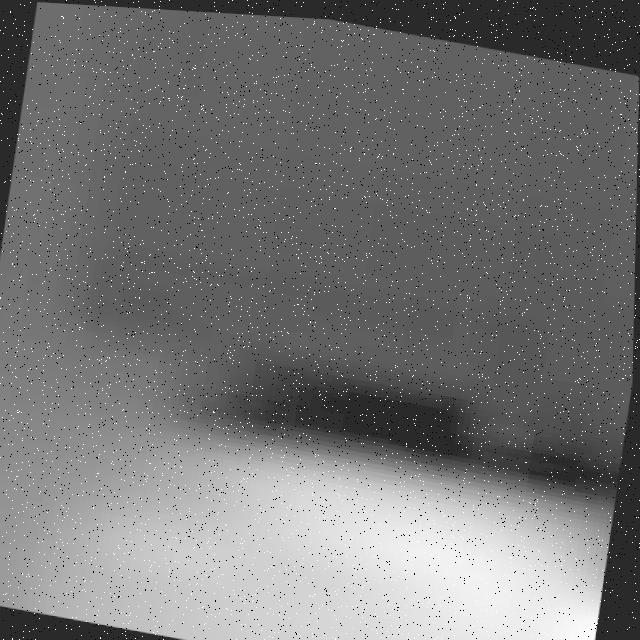person: (53, 394, 619, 640)
